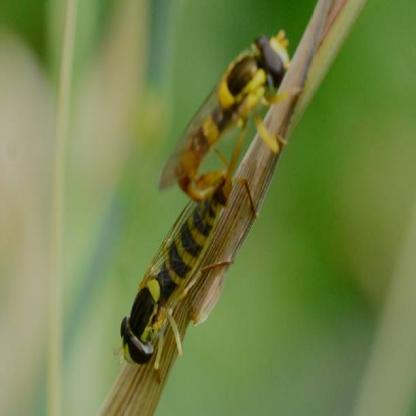sawfly: (149, 23, 303, 208), (115, 167, 238, 384)
